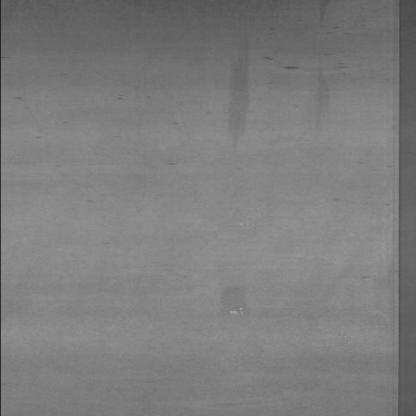welding_line: (387, 0, 411, 414)
